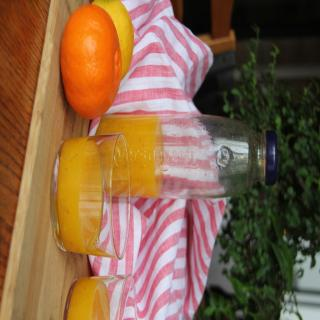Orange: (57, 5, 126, 114)
